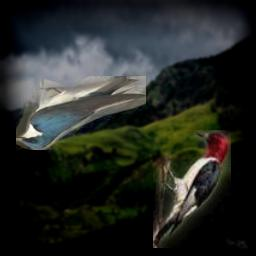Swallow: (16, 76, 146, 150)
Woodpecker: (153, 130, 231, 248)
